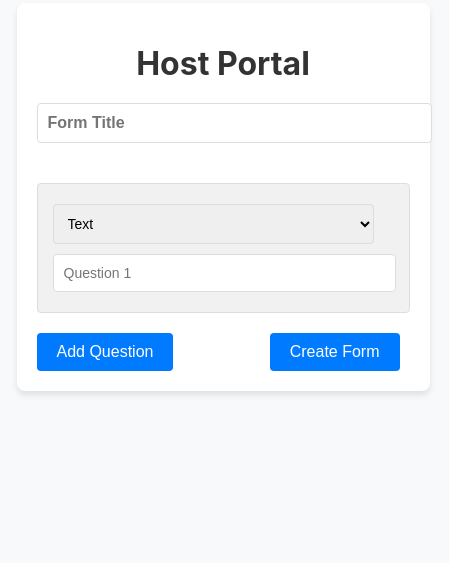
Test: HostPortal Component › adds a new question when "Add Question" is clicked
Click the button "Add Question" at (105, 352), box [36,333,174,371]
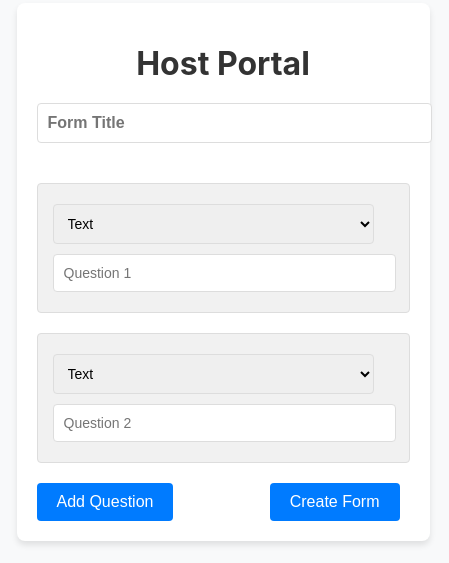
Now the number of fields with placeholder "Question 1" is 2, box [52,254,396,292]; [52,404,396,442]
